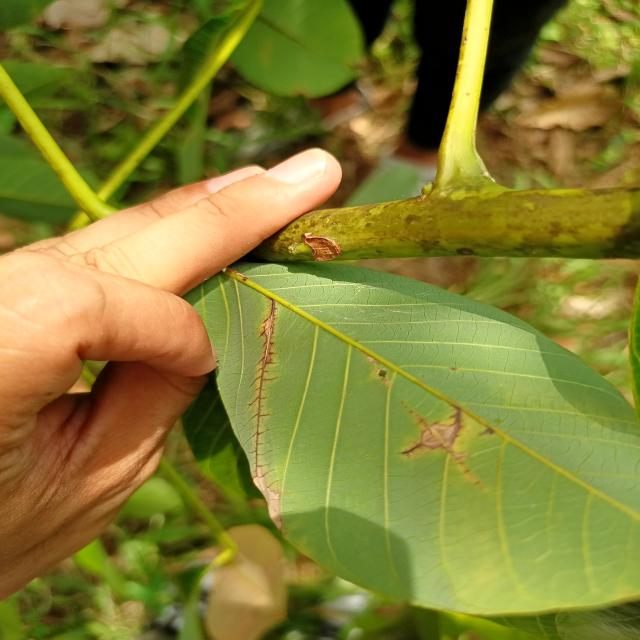Corynespora: (247, 298, 280, 480)
Leaf-Blight: (252, 467, 282, 529), (422, 424, 454, 448)
